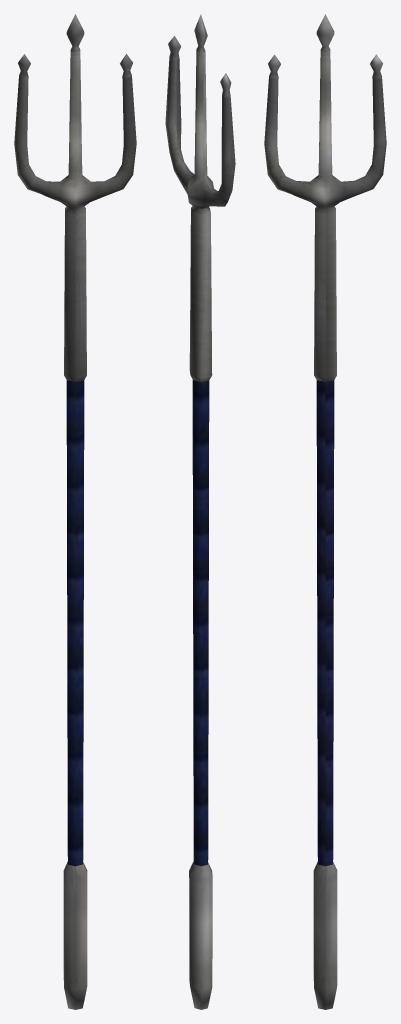
File: weapons_fa_tra.glb
3 views of the same model, side by side, from view 1: azimuth 90°, elevation 25°; view 2: azimuth 210°, elevation 25°; view 3: azimuth 270°, elevation 25° (orthographic).
Parts seen in each view (by area): view 1: fa_tra; view 2: fa_tra; view 3: fa_tra.
Boxes of the visible parts, bbox=[...] form: fa_tra: bbox=[14, 14, 136, 1009]; fa_tra: bbox=[165, 14, 235, 1009]; fa_tra: bbox=[264, 14, 386, 1009].
Bounding box in the file's own units: 0.0499 × 1.96 × 0.2196.
Materials: 1 (1 with a texture image).
